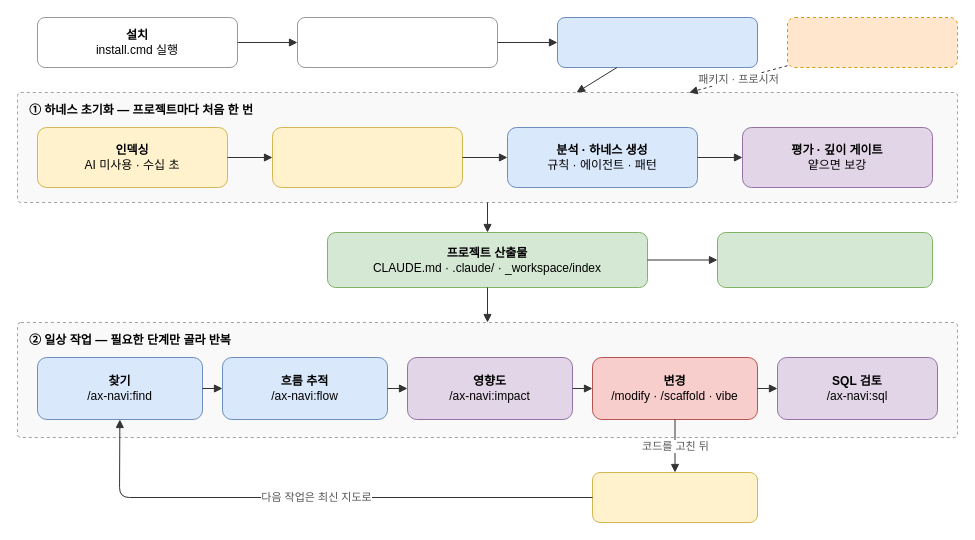
This 975x540 diagram has some shape labels left out. The centre of each missing label's shape, as x and y in pixels:
"인덱스만 갱신해줘" AI 미사용: [675,497]
"하네스 초기화 해줘": [657,42]
DB 연결 (선택) /plugin configure: [872,42]
견적 · 깊이 선택 Full / Standard: [367,157]
문서화 /ax-navi:wiki 위키 · 호출 그래프 HTML: [824,260]
프로젝트 폴더에서 Claude Code 실행: [397,42]
